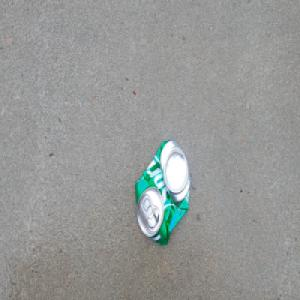SodaCan: (133, 136, 192, 250)
